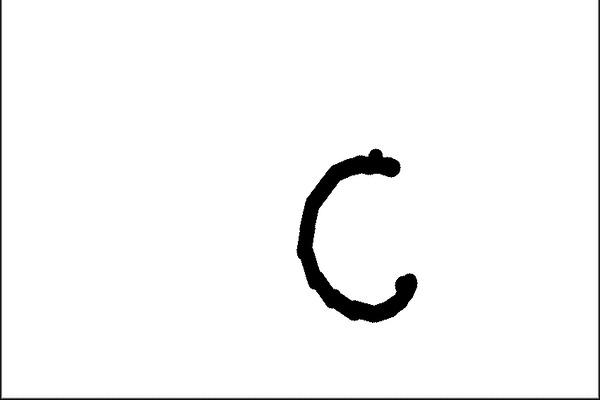C: (291, 145, 428, 326)
